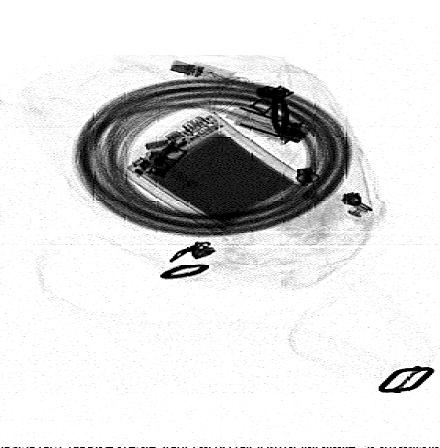Powerbank: (112, 111, 314, 237)
